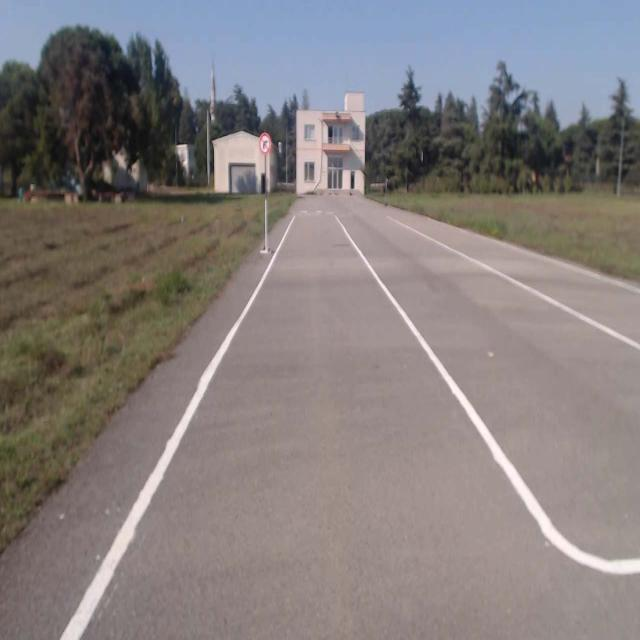sagadonulmez: (259, 132, 271, 156)
